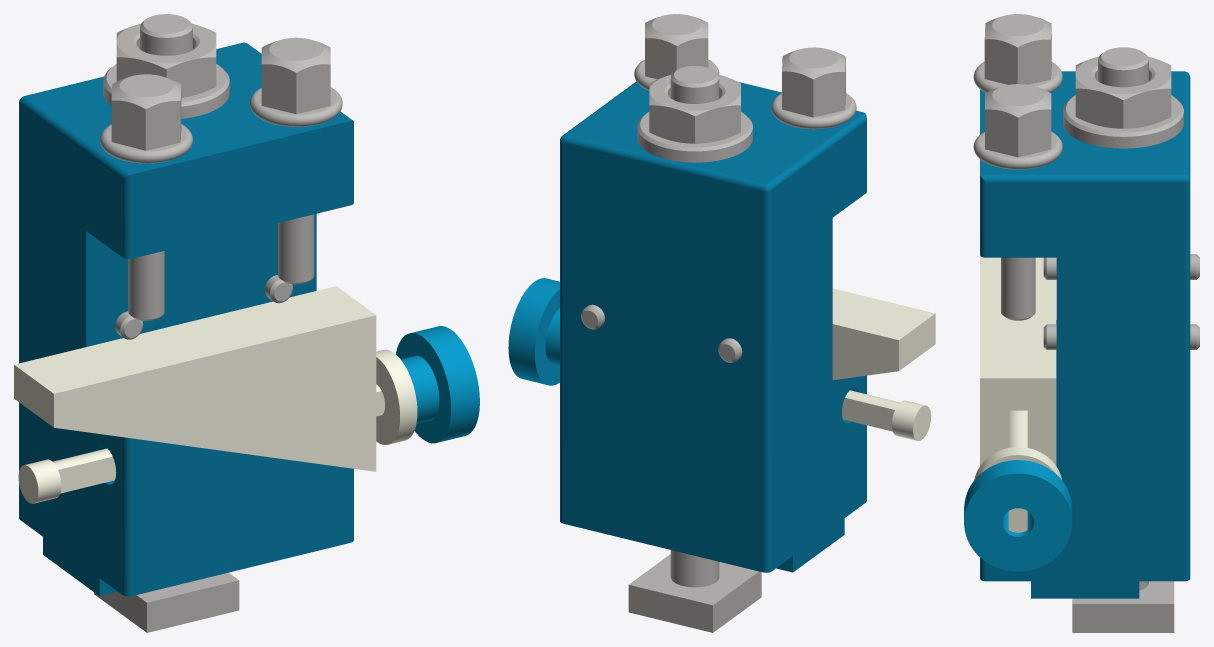
3 renders of one model, left to right at view 1: azimuth 30°, elevation 25°; view 2: azimuth 150°, elevation 25°; view 3: azimuth 270°, elevation 25°, orthographic. The views are drawn at different scales.
Visible parts, largest first — view 1: Solid1 (×10); view 2: Solid1 (×9); view 3: Solid1 (×12).
Part boxes in pixels (bbox=[...]): Solid1 (×10): bbox=[14, 14, 479, 632]; Solid1 (×9): bbox=[508, 14, 935, 632]; Solid1 (×12): bbox=[964, 14, 1199, 632].
Size of the model in its own units: 0.1167 by 0.1524 by 0.0587.
